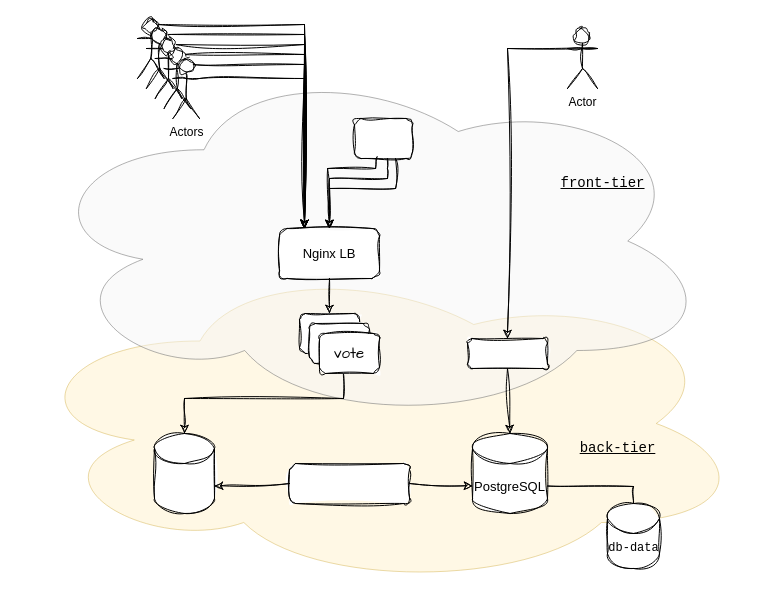
Some shapes in this 765 by 606 pixel diagram are drawn without their labels. Each missing label, with the centre of its shape:
Redis: point (184, 473)
result: point (507, 353)
seed: point (383, 138)
Worker: point (349, 483)
